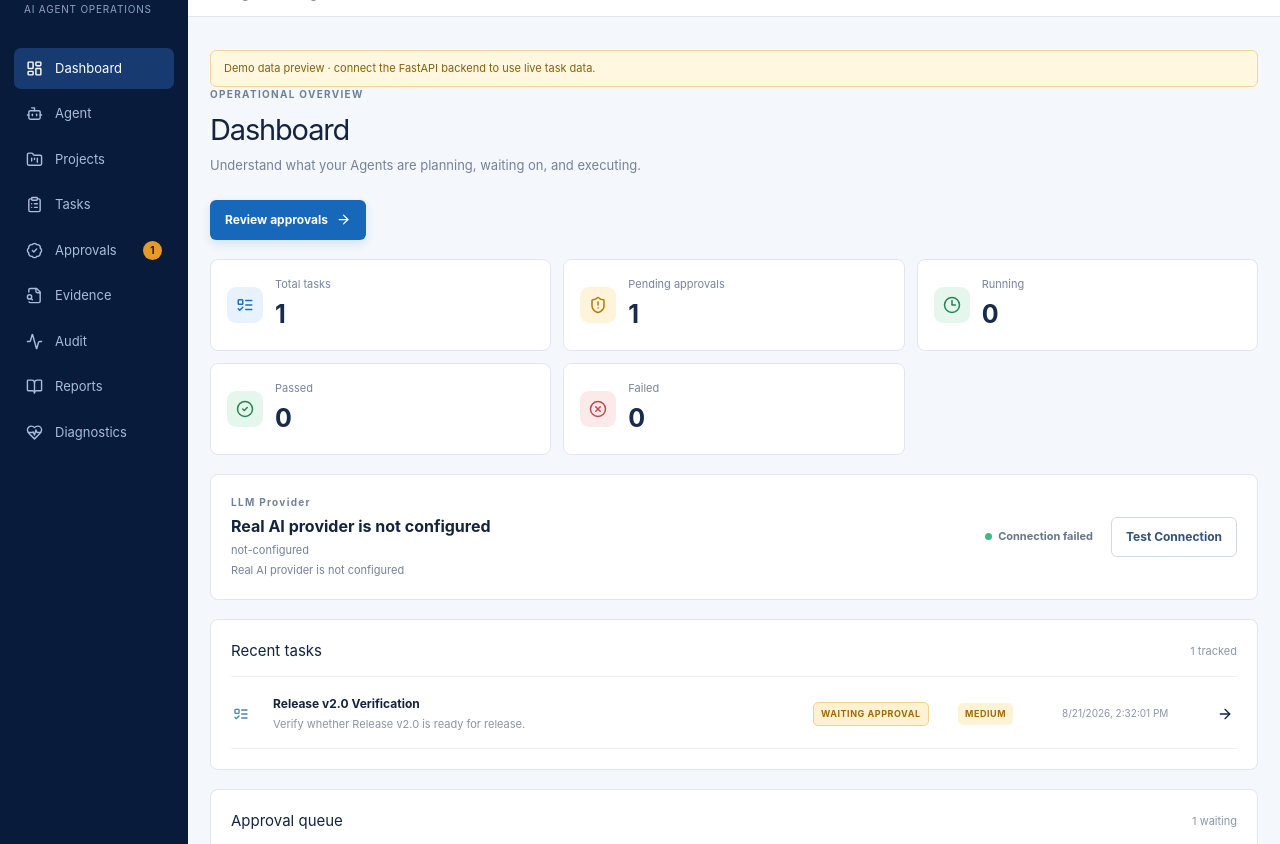
it: AgentForge operations console › shows the local Projects surface and explicit capability selection
Click the button "Projects" at x=94, y=159, box [14,138,174,180]
(page scrolled)
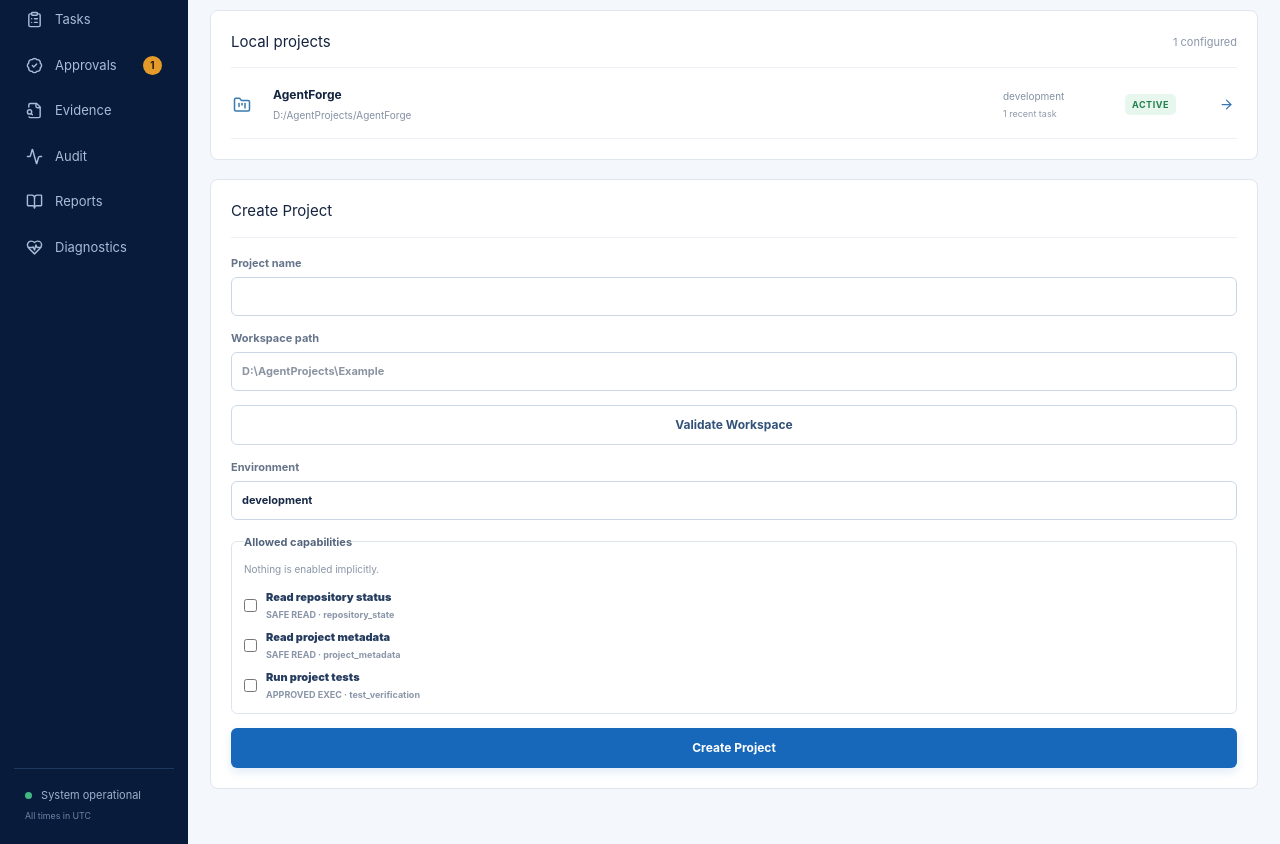
Result: the field labelled "Workspace path" is shown at [231,352,1237,390]
Result: the checkbox labelled "repository_state" is not checked at [244,598,257,612]
Result: the text "1 recent task" is shown at [1003,108,1057,119]
